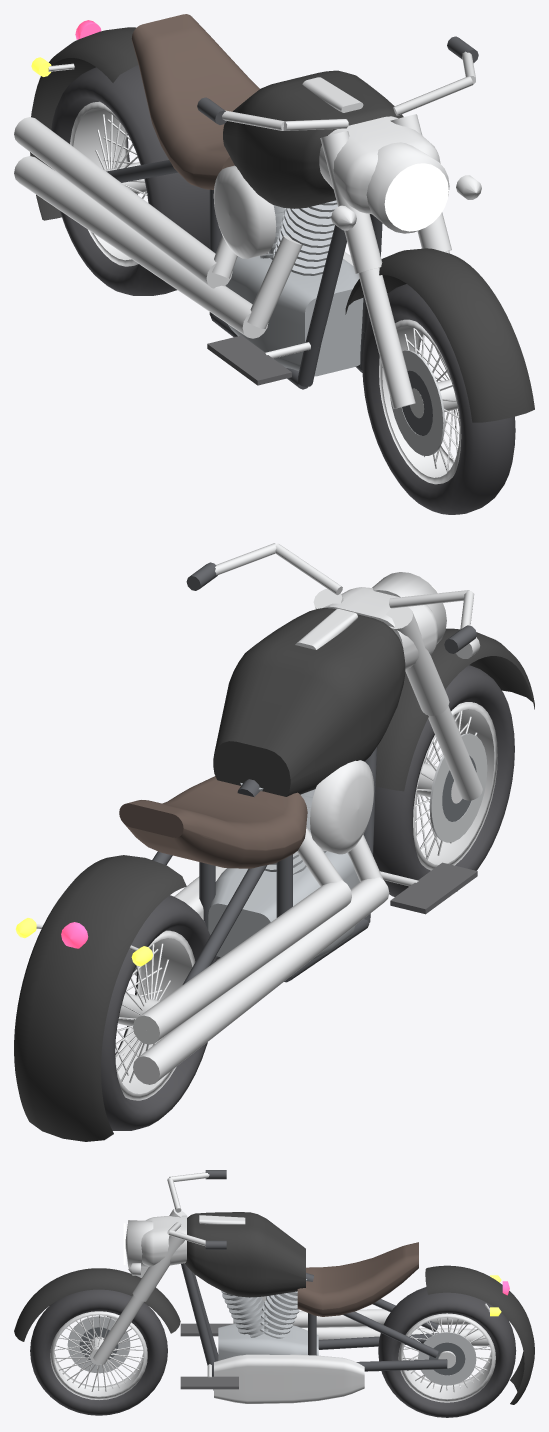
Rendered from motorcycle-cruiser.glb.
3 renders of one model, top to bottom at view 1: azimuth 30°, elevation 25°; view 2: azimuth 150°, elevation 25°; view 3: azimuth 270°, elevation 25°, orthographic. The views are drawn at different scales.
Parts seen in each view (by area): view 1: motorcycle-cruiser; view 2: motorcycle-cruiser; view 3: motorcycle-cruiser.
Boxes of the visible parts, x1,y1,x2,y2 form: motorcycle-cruiser: (14,14,534,514); motorcycle-cruiser: (14,543,534,1141); motorcycle-cruiser: (14,1170,534,1417).
Bounding box in the file's own units: 0.8439 × 1.11 × 2.49.
